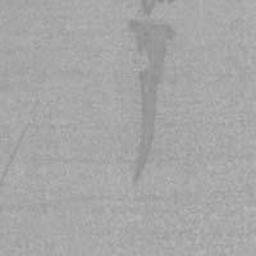Inclusion: (128, 0, 179, 184), (0, 119, 31, 197)
